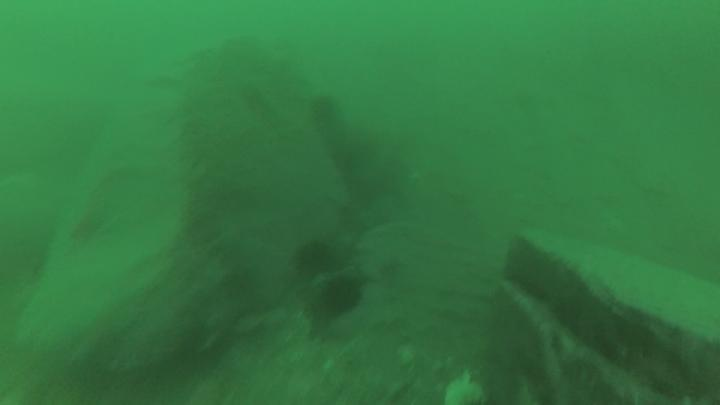echinus: (320, 272, 368, 319), (295, 237, 343, 283)
